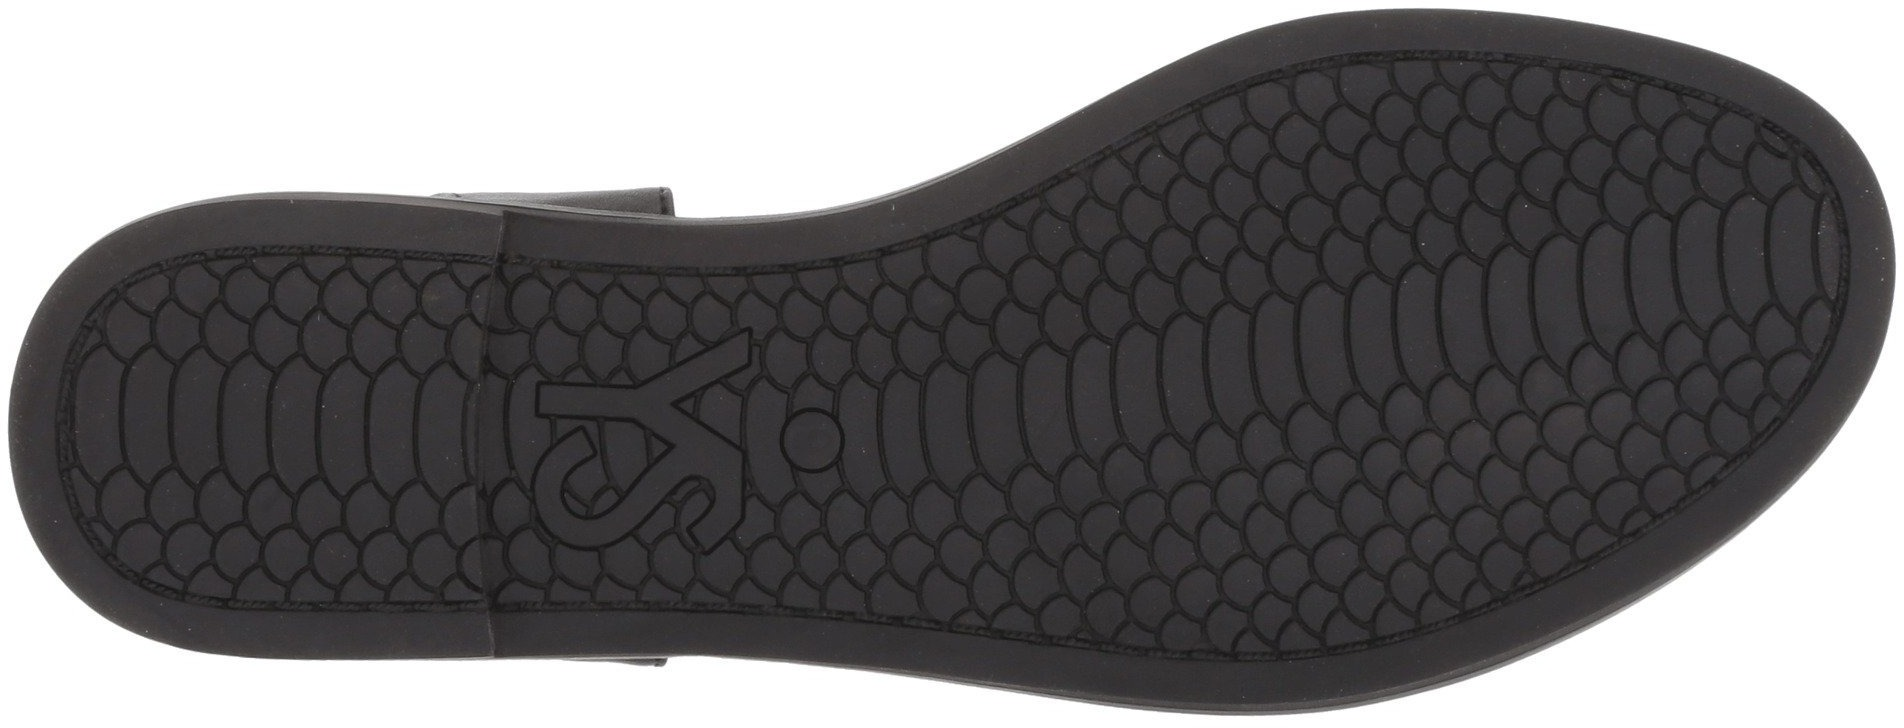circle: (913, 291, 1161, 529), (1605, 161, 1818, 372), (1382, 69, 1600, 265), (274, 328, 478, 531), (84, 324, 285, 513), (772, 402, 850, 476)
exclude: (104, 0, 1072, 237), (494, 655, 701, 727)
text: (525, 323, 772, 561)
